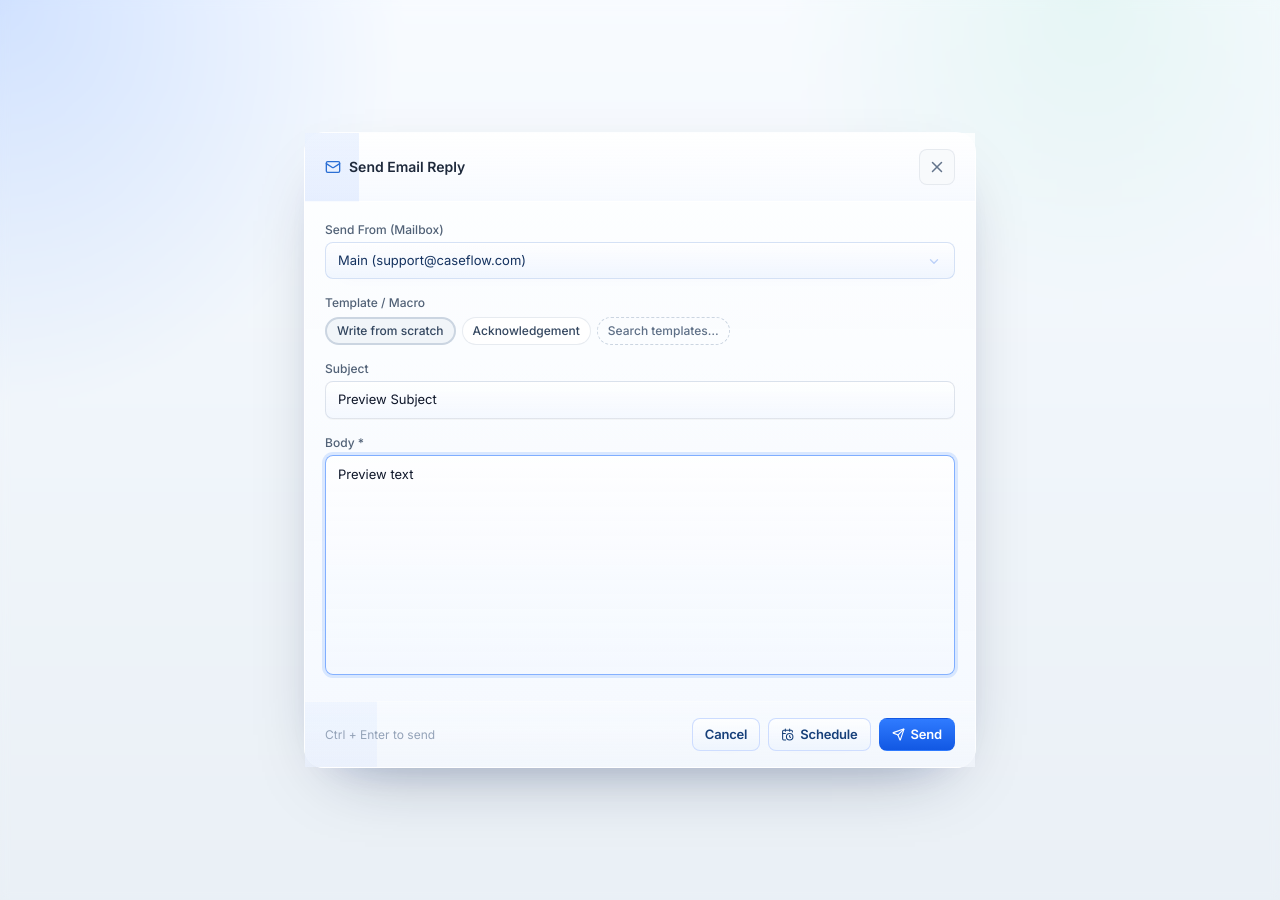
Test: EmailReplyComposer › shows failed feedback without pretending the reply was sent
Replace the text in the text box with placeholder "Type your reply…" with "Failure body" at (640, 565), box [325,455,955,675]
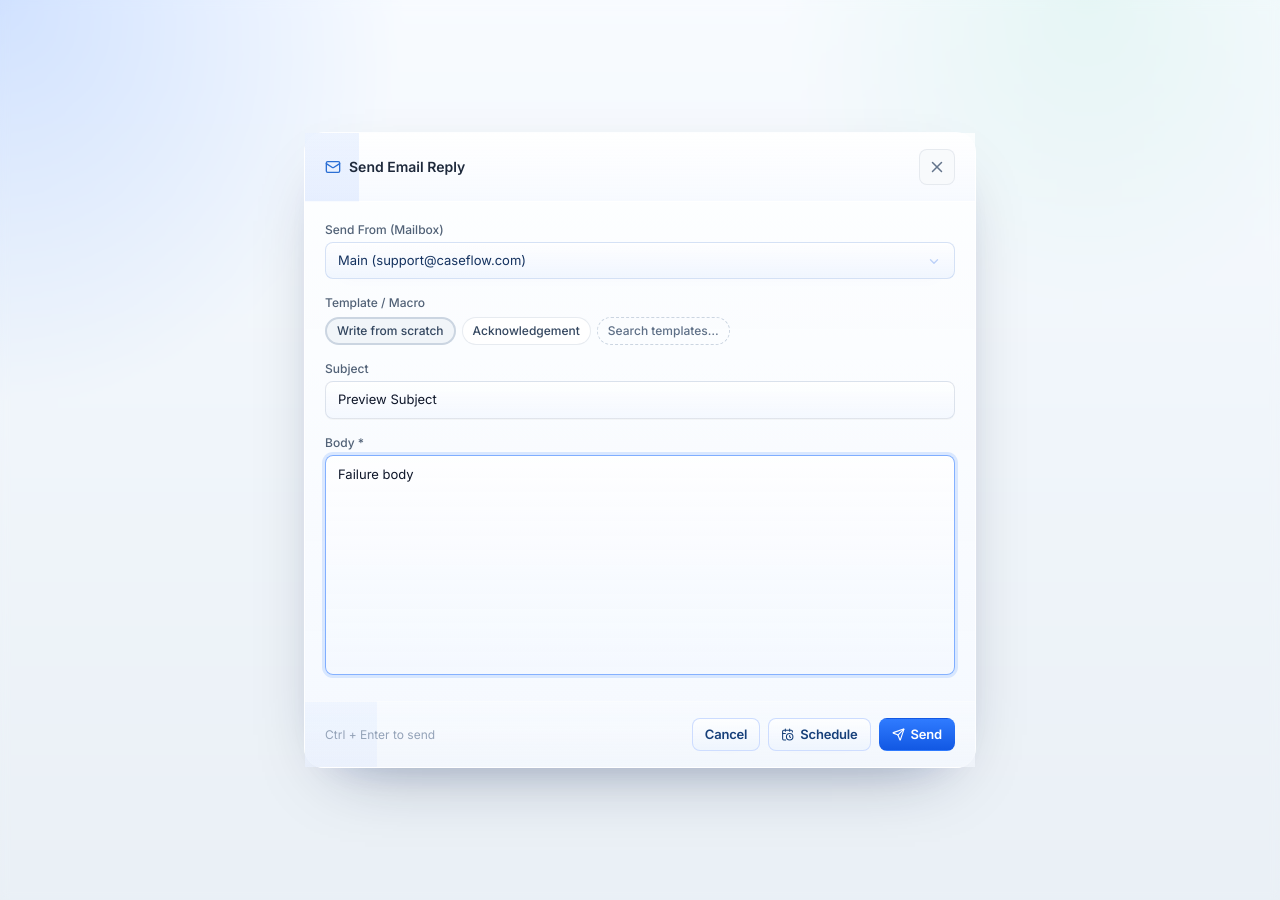
Click the button "Send".
click(917, 735)  # box [879,718,955,751]
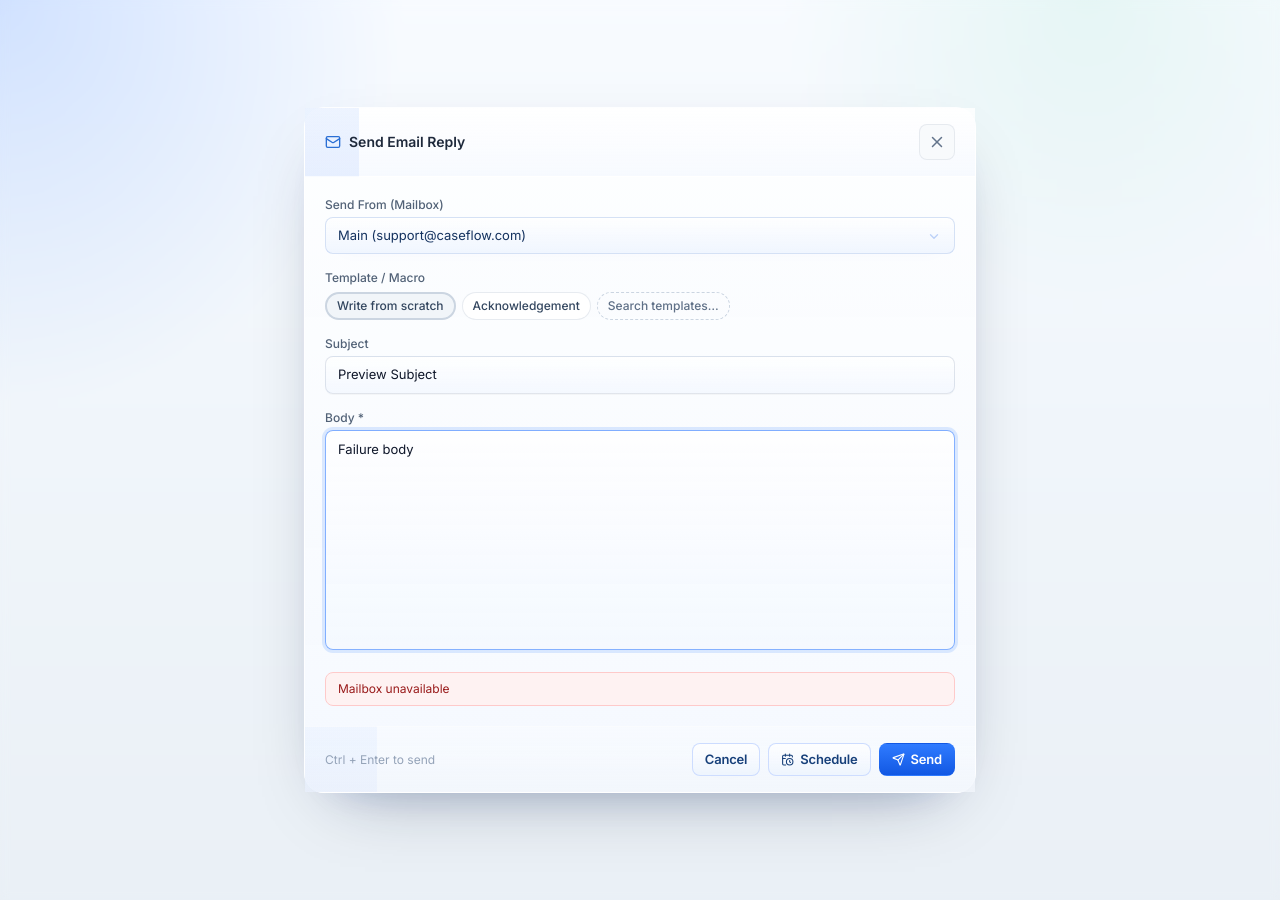
expect the text "Mailbox unavailable" is shown: met, box [325,672,955,706]
